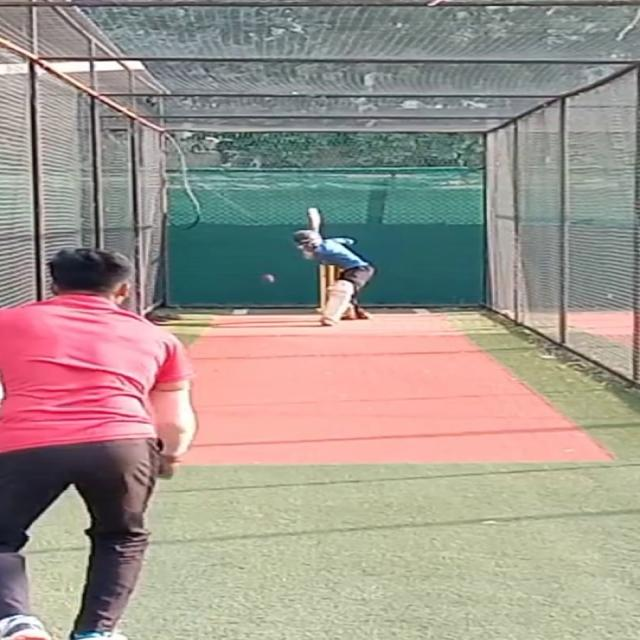ball: (257, 272, 275, 282)
stump: (314, 264, 335, 312)
